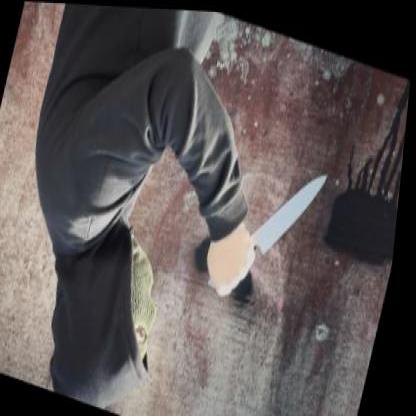knife: (221, 139, 338, 320)
